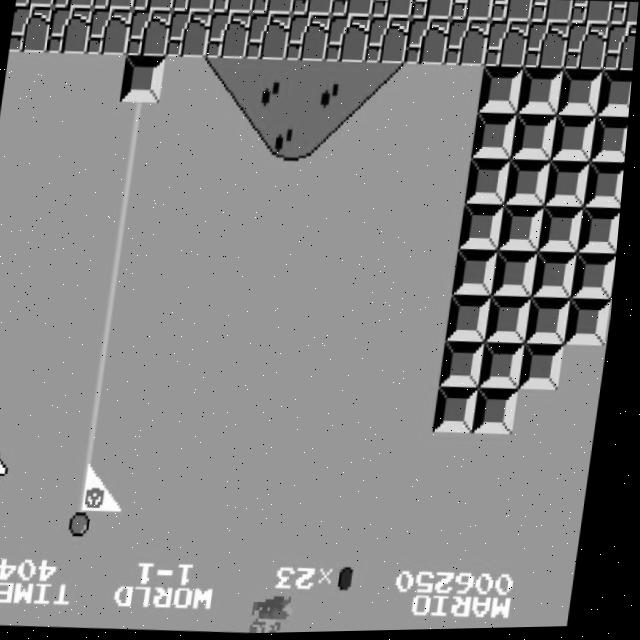11- little_mario: (260, 597, 308, 635)
17- undestructible_block: (564, 25, 611, 74), (524, 23, 571, 72), (365, 18, 412, 67), (126, 9, 173, 58), (484, 22, 531, 70), (86, 8, 133, 56), (445, 20, 491, 69), (405, 19, 451, 68), (326, 16, 372, 65), (246, 13, 292, 62), (206, 12, 252, 61), (166, 11, 212, 60), (47, 6, 93, 55), (286, 15, 332, 63), (10, 5, 53, 54), (604, 26, 637, 74), (570, 2, 614, 28), (530, 1, 574, 27), (490, 0, 534, 25), (450, 0, 494, 24), (410, 0, 454, 22), (371, 0, 414, 21), (331, 0, 374, 20), (290, 0, 334, 18), (609, 4, 639, 29), (251, 0, 294, 17), (212, 0, 255, 15), (172, 0, 215, 14), (132, 0, 175, 13), (92, 0, 135, 11), (52, 0, 95, 9), (15, 0, 54, 8)
7- goal_pole: (65, 512, 112, 561), (70, 466, 117, 515), (87, 329, 134, 378), (115, 101, 162, 149), (104, 192, 150, 241), (98, 239, 145, 286), (76, 421, 122, 469), (82, 376, 128, 424), (93, 284, 139, 332), (110, 147, 156, 195)
9- hard_block: (570, 300, 617, 349), (558, 71, 605, 120), (485, 343, 532, 392), (451, 296, 498, 345), (462, 205, 509, 254), (525, 345, 572, 393), (536, 254, 583, 302), (513, 115, 560, 163), (456, 251, 503, 299), (531, 299, 577, 348), (542, 207, 588, 256), (553, 116, 599, 165), (491, 298, 537, 347), (502, 206, 548, 255), (519, 69, 565, 118), (446, 341, 492, 390), (474, 113, 520, 162), (496, 253, 543, 300), (548, 162, 594, 210), (480, 390, 526, 438), (508, 161, 554, 209), (440, 388, 486, 436), (468, 160, 514, 208), (479, 68, 525, 116), (121, 56, 167, 104), (576, 255, 621, 303), (581, 209, 625, 258), (587, 164, 628, 211), (593, 118, 631, 166), (598, 72, 634, 120), (617, 258, 621, 304)
